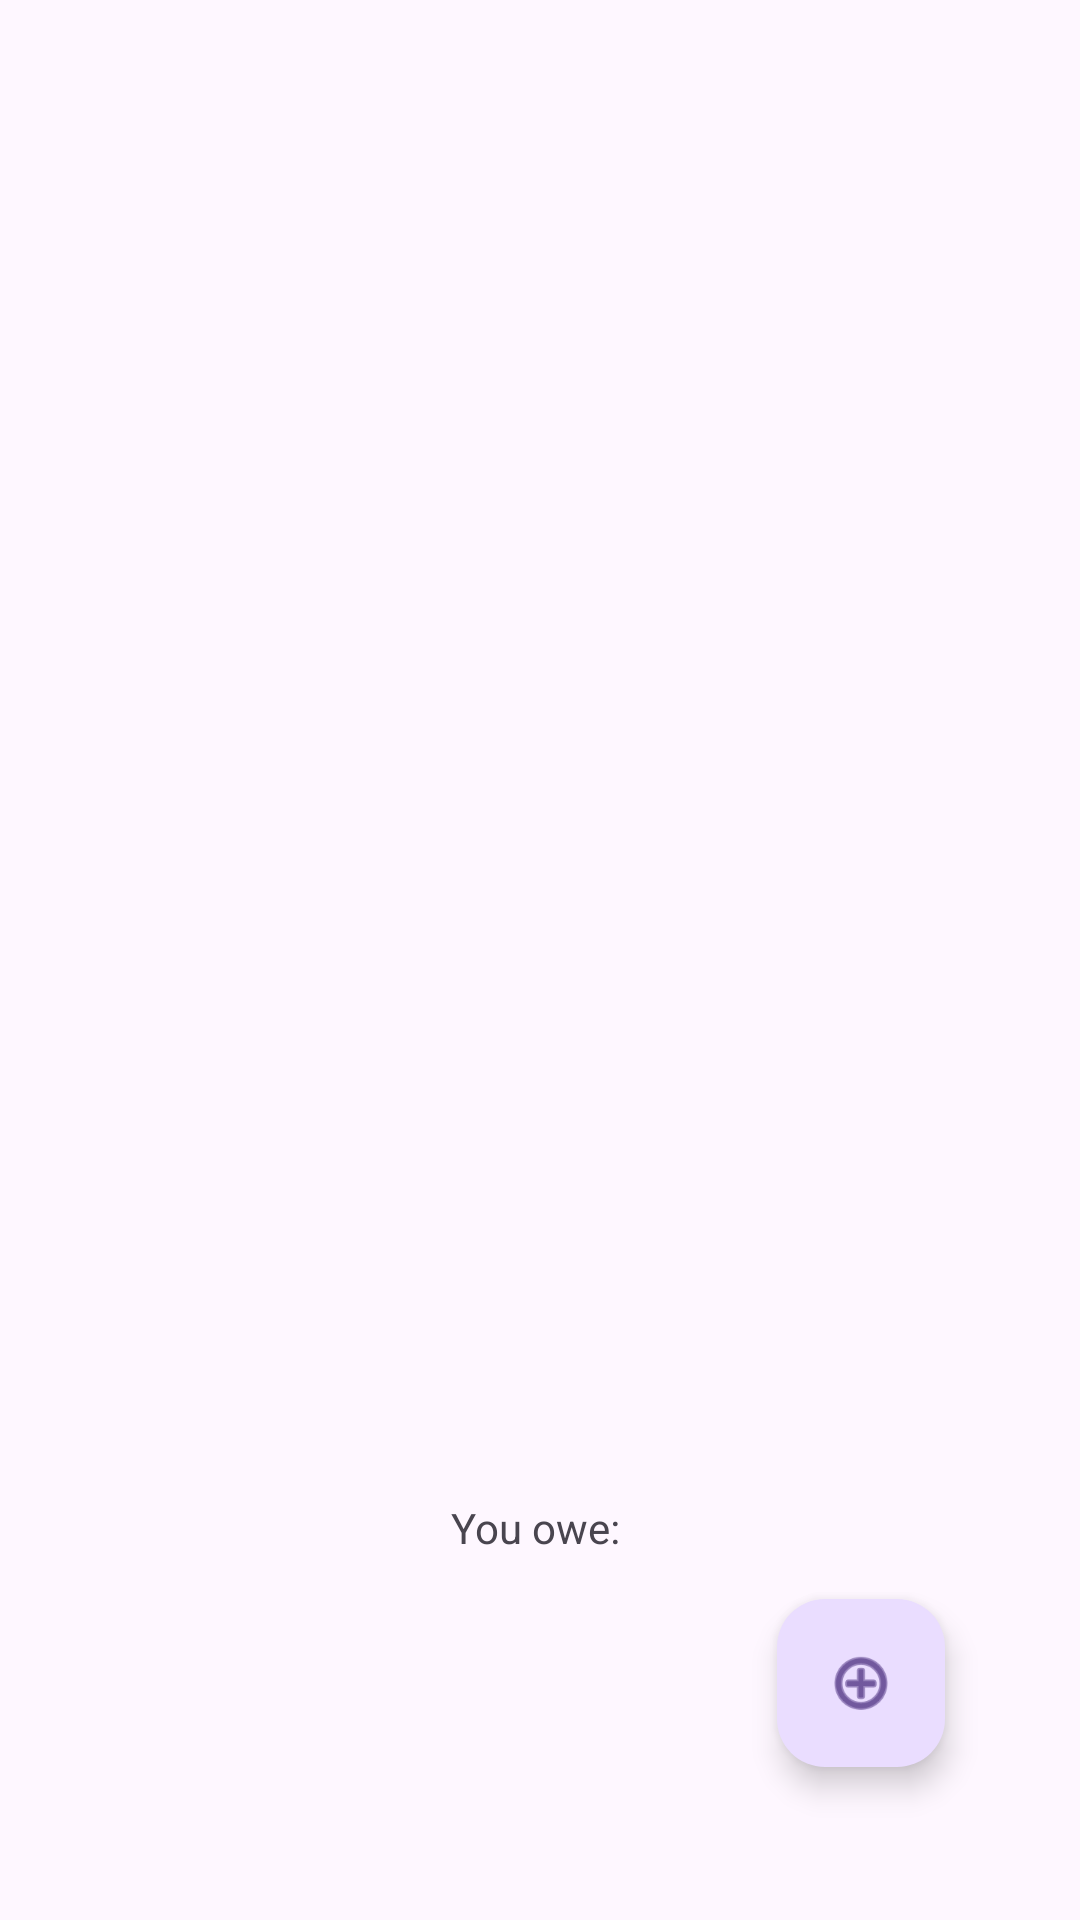

Locate icon controls on the screen. Image size 1080x1920, boxes as [x1, y1, x2, y2].
add: [777, 1599, 945, 1767]
